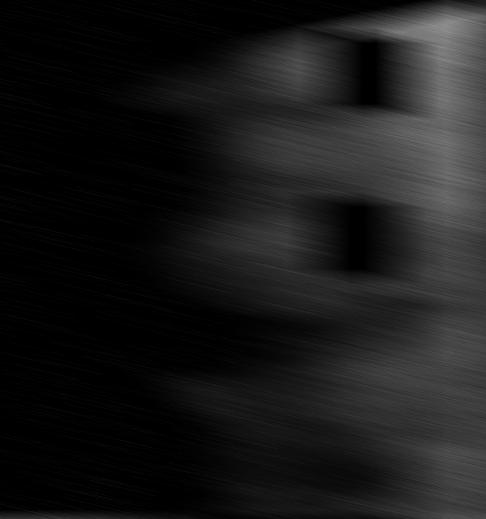Airbag: (0, 1, 486, 518), (470, 0, 486, 519)
